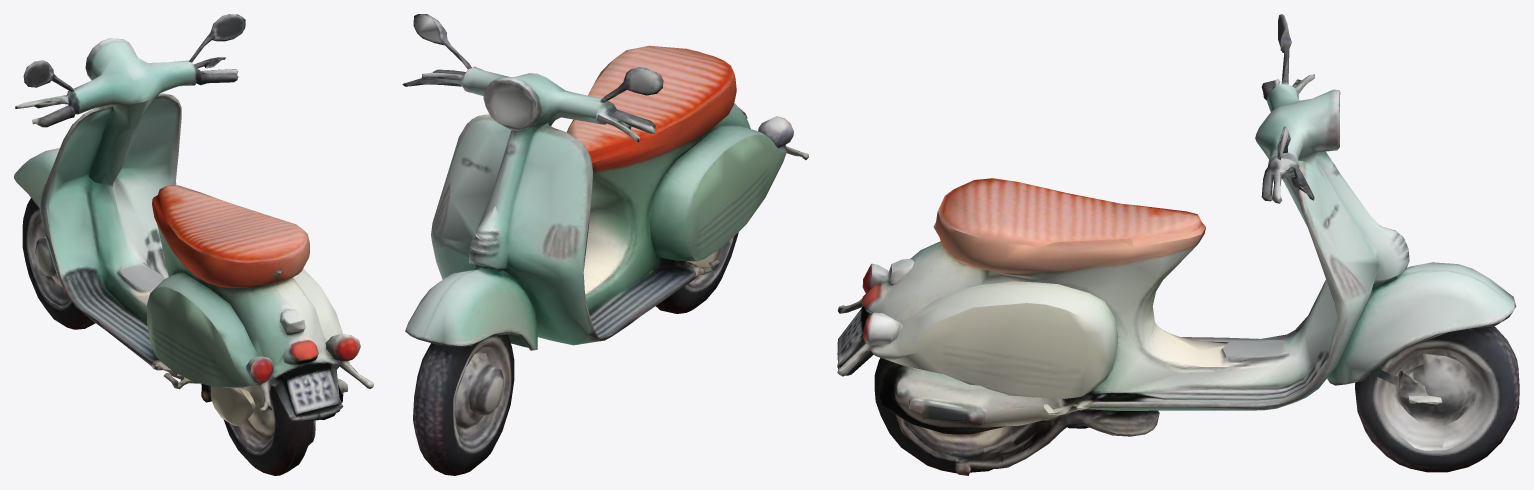
File: scooter125.glb
The picture shows the model from 3 angles, left to right: view 1: azimuth 30°, elevation 25°; view 2: azimuth 150°, elevation 25°; view 3: azimuth 270°, elevation 25°; orthographic projection. The views are drawn at different scales.
Parts seen in each view (by area): view 1: world_0; view 2: world_0; view 3: world_0.
Part boxes in pixels (box(x1,y1,x2,y2)): world_0: box(14, 14, 373, 475); world_0: box(402, 14, 808, 475); world_0: box(837, 14, 1519, 475).
Size of the model in its own units: 0.4474 by 0.6468 by 1.
Materials: 1 (1 with a texture image).
